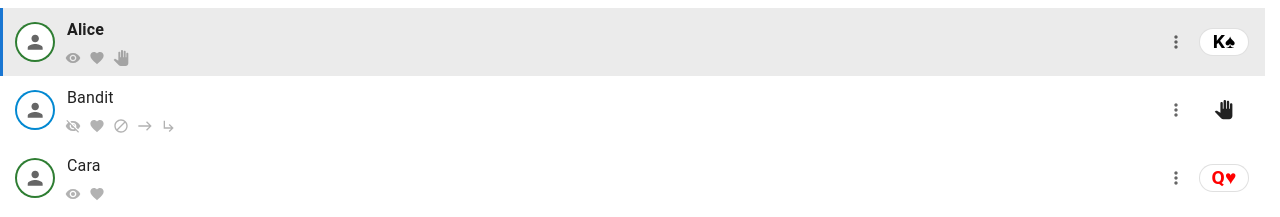
Test: ParticipantRow rename › Escape cancels the edit
Click the button with aria-label "Rename Cara". click: (84, 166)
box: [67,156,100,175]
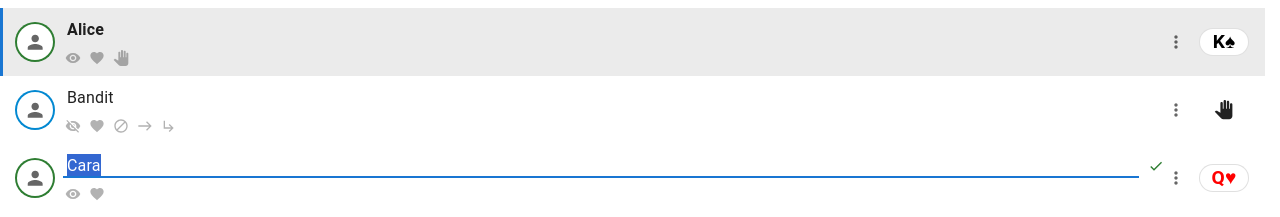
Replace the text in the field named "Name" with "Nope". click: (601, 166)
box: [63,154,1139,178]
Then press Escape
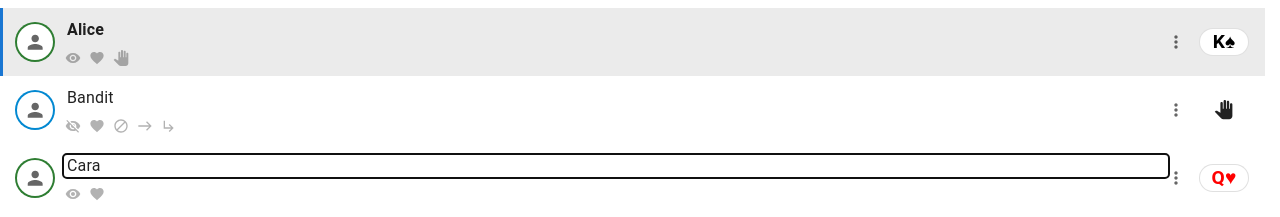
Now the button "Cara" is shown, box [67,156,100,175]
Now the field is gone
